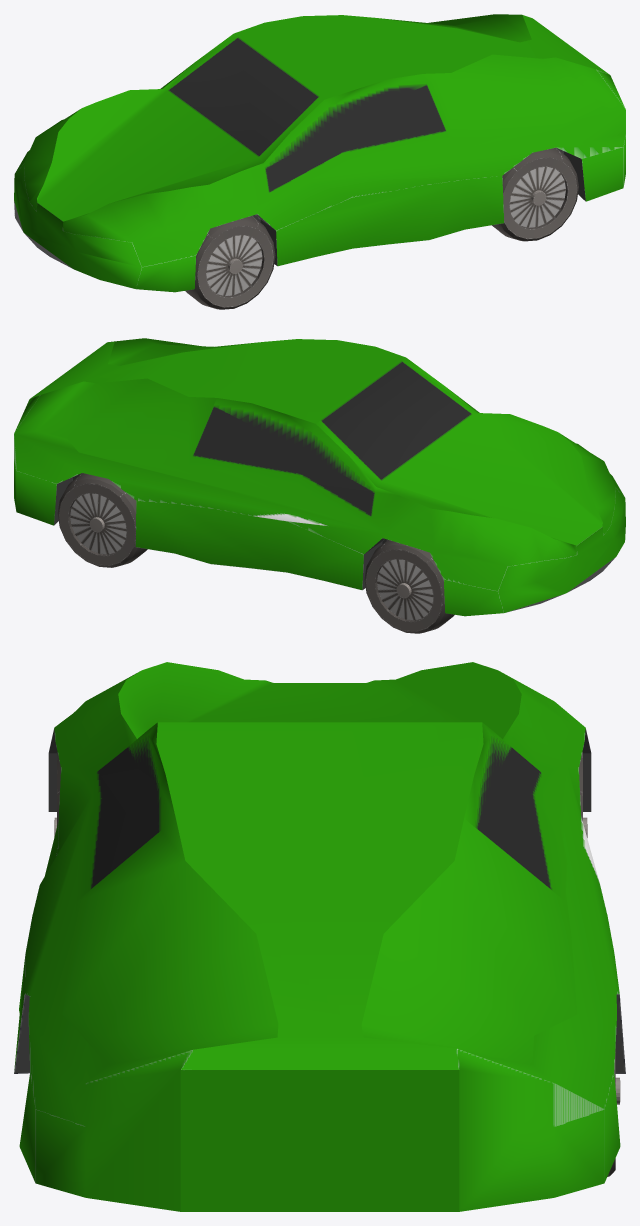
The model's file is NpcVehicle_2.fbx.
The picture shows the model from 3 angles, top to bottom: view 1: azimuth 30°, elevation 25°; view 2: azimuth 150°, elevation 25°; view 3: azimuth 270°, elevation 25°; orthographic projection. The views are drawn at different scales.
Parts seen in each view (by area): view 1: pCube1, pasted__pCylinder1, pasted__pasted__pCylinder1; view 2: pCube1, pasted__pasted__pasted__pCylinder1, pasted__pasted__pCylinder1; view 3: pCube1.
Part boxes in pixels (box(x1,y1,x2,y2)): pCube1: box(14, 14, 625, 292); pasted__pCylinder1: box(185, 216, 275, 309); pasted__pasted__pCylinder1: box(492, 148, 578, 241); pCube1: box(14, 338, 625, 616); pasted__pasted__pasted__pCylinder1: box(57, 473, 147, 567); pasted__pasted__pCylinder1: box(364, 540, 454, 633); pCube1: box(14, 662, 625, 1211).
Bounding box in the file's own units: 934 × 279 × 518.
5 materials, 5 textured.
